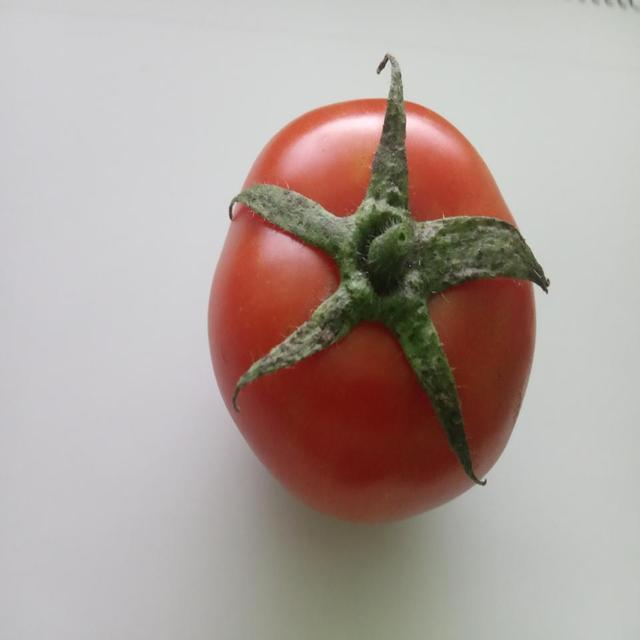Healthy Fruit: (137, 34, 369, 352)
